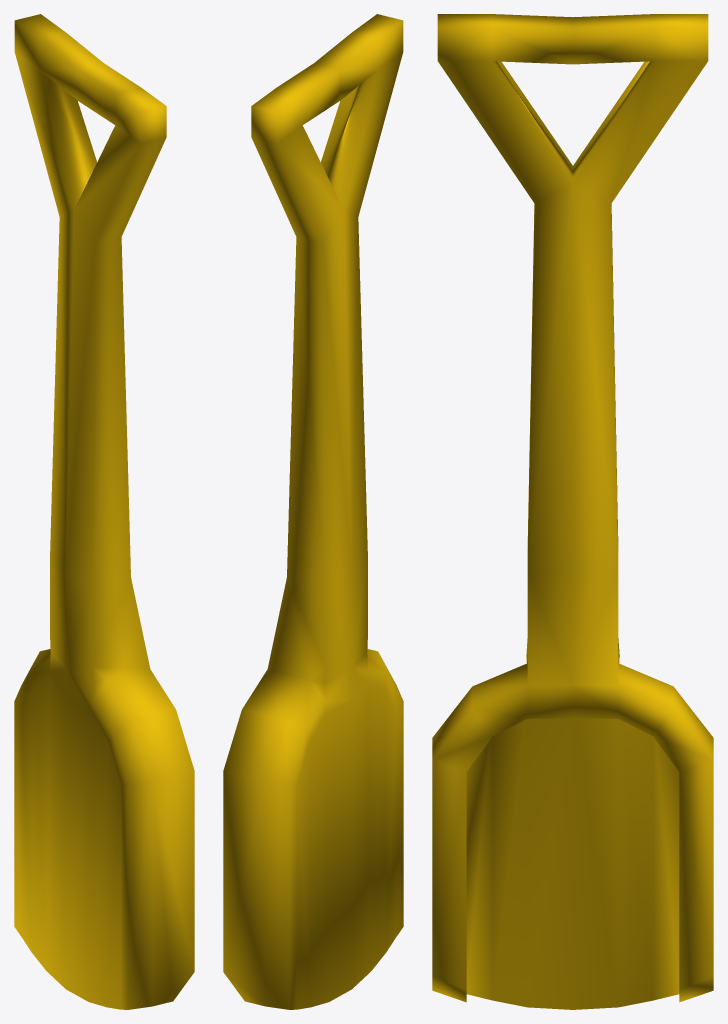
File: лопатка.glb
The picture shows the model from 3 angles, left to right: view 1: azimuth 30°, elevation 25°; view 2: azimuth 150°, elevation 25°; view 3: azimuth 270°, elevation 25°; orthographic projection. The views are drawn at different scales.
Parts seen in each view (by area): view 1: Cube; view 2: Cube; view 3: Cube.
Part boxes in pixels (x1,y1,x2,y2): Cube: (14,14,194,1009); Cube: (223,14,403,1009); Cube: (432,14,713,1009).
Size of the model in its own units: 0.0794 by 1.1 by 0.2849.
